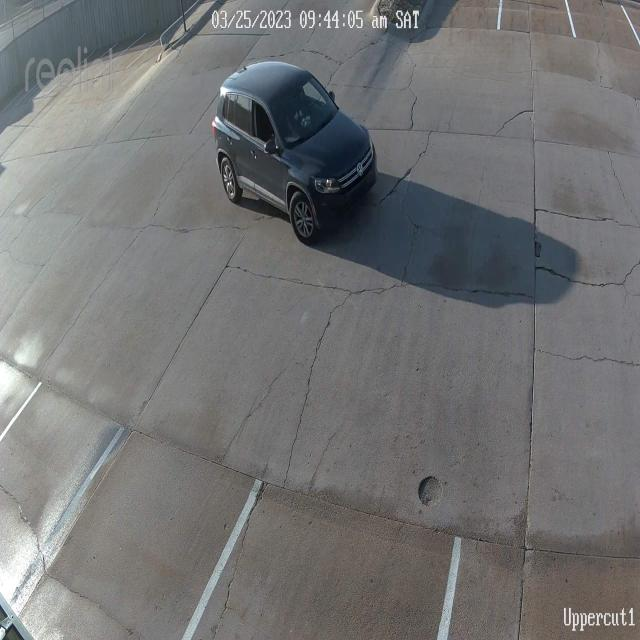Car: (212, 61, 379, 247)
Empty-slot: (4, 387, 278, 629), (185, 433, 476, 640), (0, 311, 161, 613), (440, 418, 640, 640), (0, 293, 81, 432), (409, 0, 502, 51), (492, 0, 579, 51)
